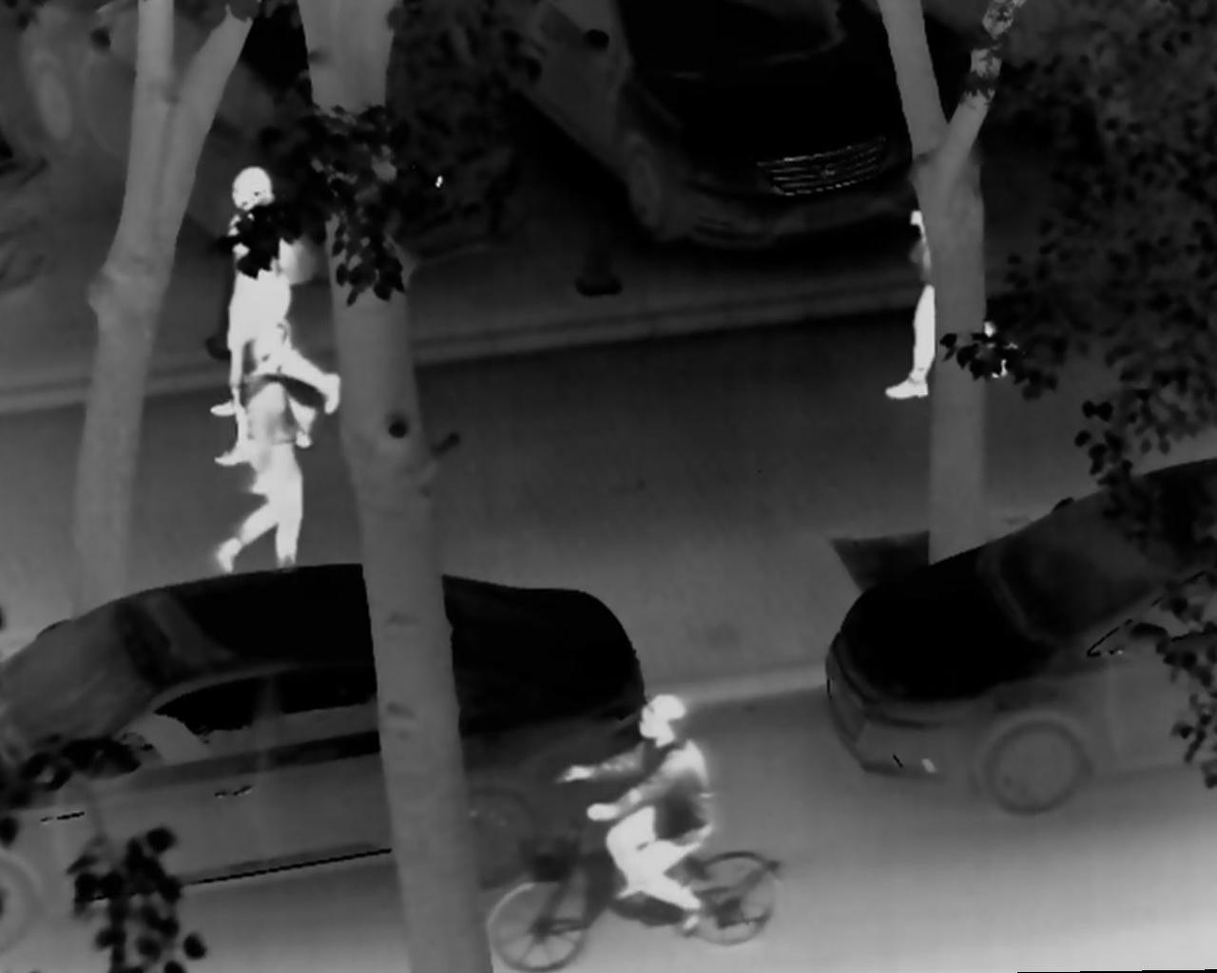person: (556, 689, 726, 938), (202, 161, 347, 421), (882, 161, 1012, 397), (207, 200, 312, 470), (212, 330, 316, 580)
